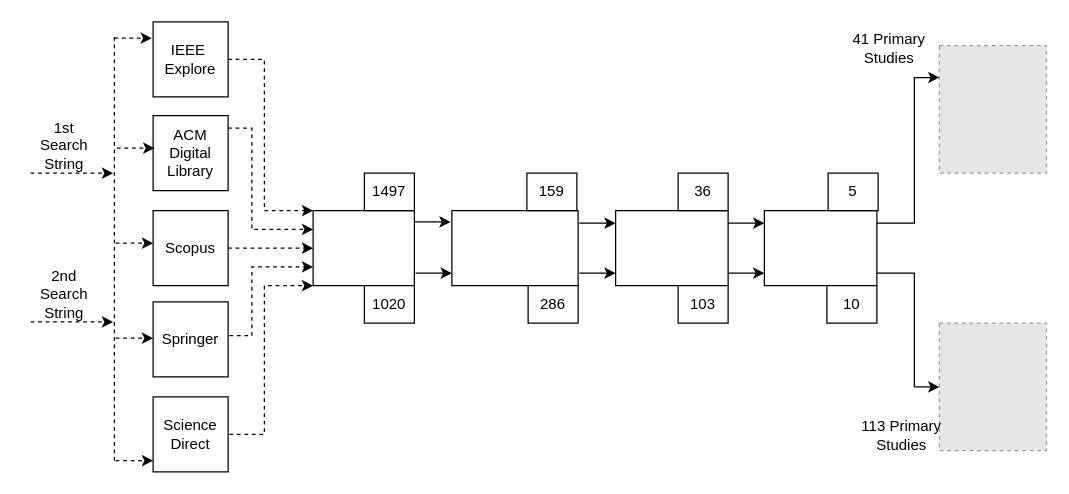
The diagram is 1069 pixels wide and 494 high, and some of its shapes have lost their labels. Grey dashed boxes stand in for pictures. The centre of each missing label's shape, as x and y in pixels:
Initial Search Results: point (363, 247)
Other Inclusion and Exclusion Criteria: point (671, 247)
Relevant studies returned from the other search string: point (820, 247)
Title and Abstract Based Screening: point (514, 247)
